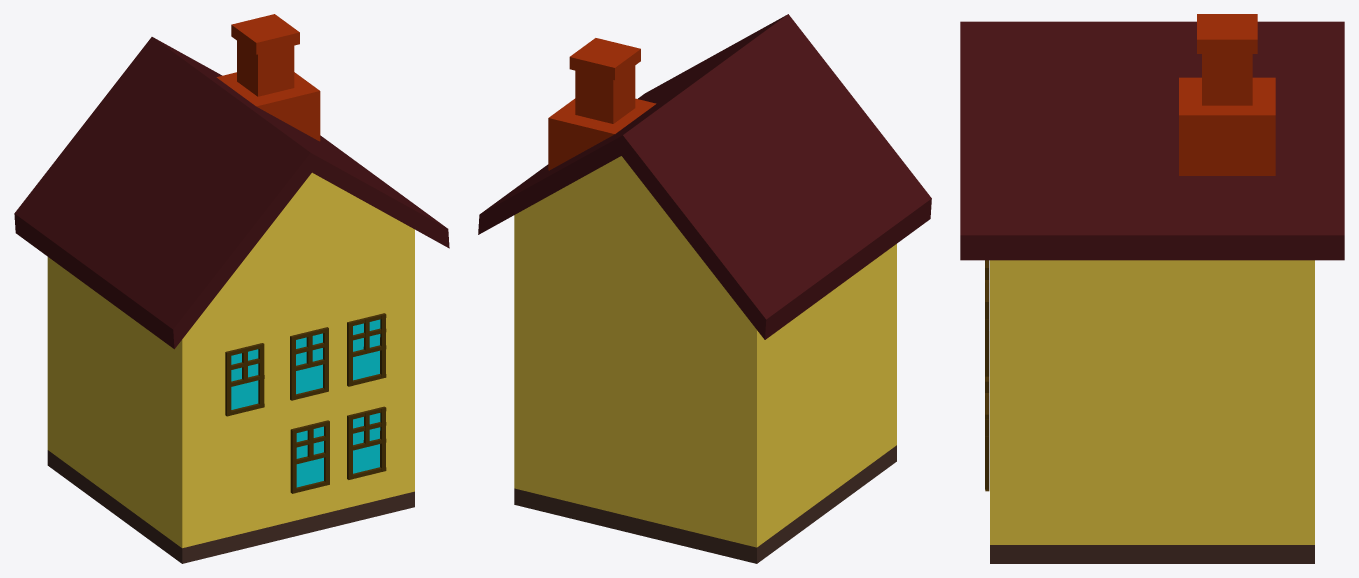
The model's file is Casa.fbx.
3 renders of one model, left to right at view 1: azimuth 30°, elevation 25°; view 2: azimuth 150°, elevation 25°; view 3: azimuth 270°, elevation 25°, orthographic. The views are drawn at different scales.
Parts seen in each view (by area): view 1: Casa; view 2: Casa; view 3: Casa.
Boxes of the visible parts, bbox=[...] form: Casa: bbox=[14, 14, 449, 563]; Casa: bbox=[478, 14, 931, 563]; Casa: bbox=[960, 14, 1344, 563].
Bounding box in the file's own units: 982 × 1423 × 977.
